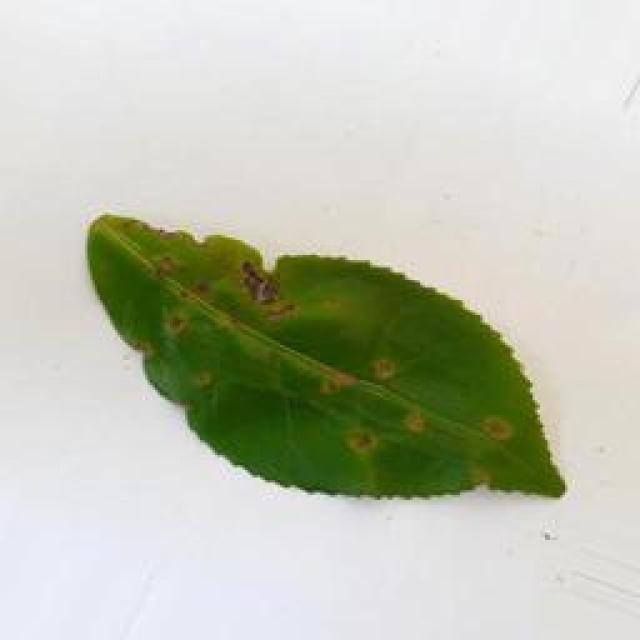Helopeltis: (77, 205, 568, 501)
